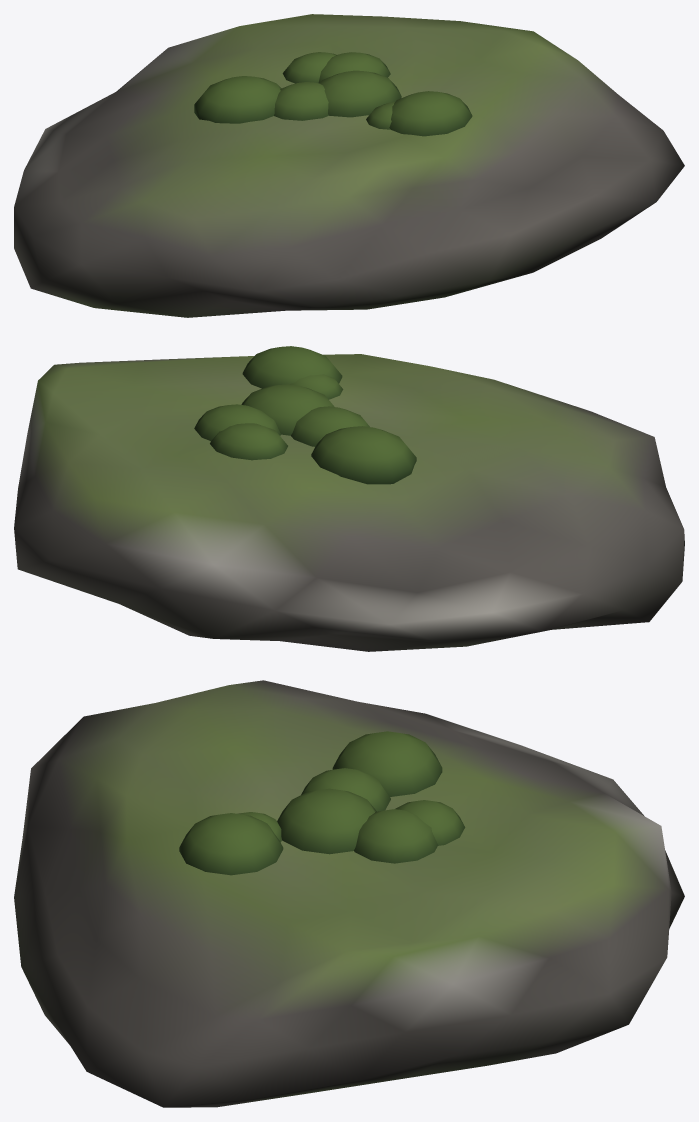
The model's file is Coast_Islet.fbx.
3 views of the same model, one above another, from view 1: azimuth 30°, elevation 25°; view 2: azimuth 150°, elevation 25°; view 3: azimuth 270°, elevation 25° (orthographic). The views are drawn at different scales.
Visible parts, largest first — view 1: Coast_Islet; view 2: Coast_Islet; view 3: Coast_Islet.
Part boxes in pixels (bbox=[...]): Coast_Islet: bbox=[14, 14, 684, 317]; Coast_Islet: bbox=[14, 346, 684, 651]; Coast_Islet: bbox=[14, 680, 684, 1107].
Bounding box in the file's own units: 42.2 × 9.99 × 31.33.
